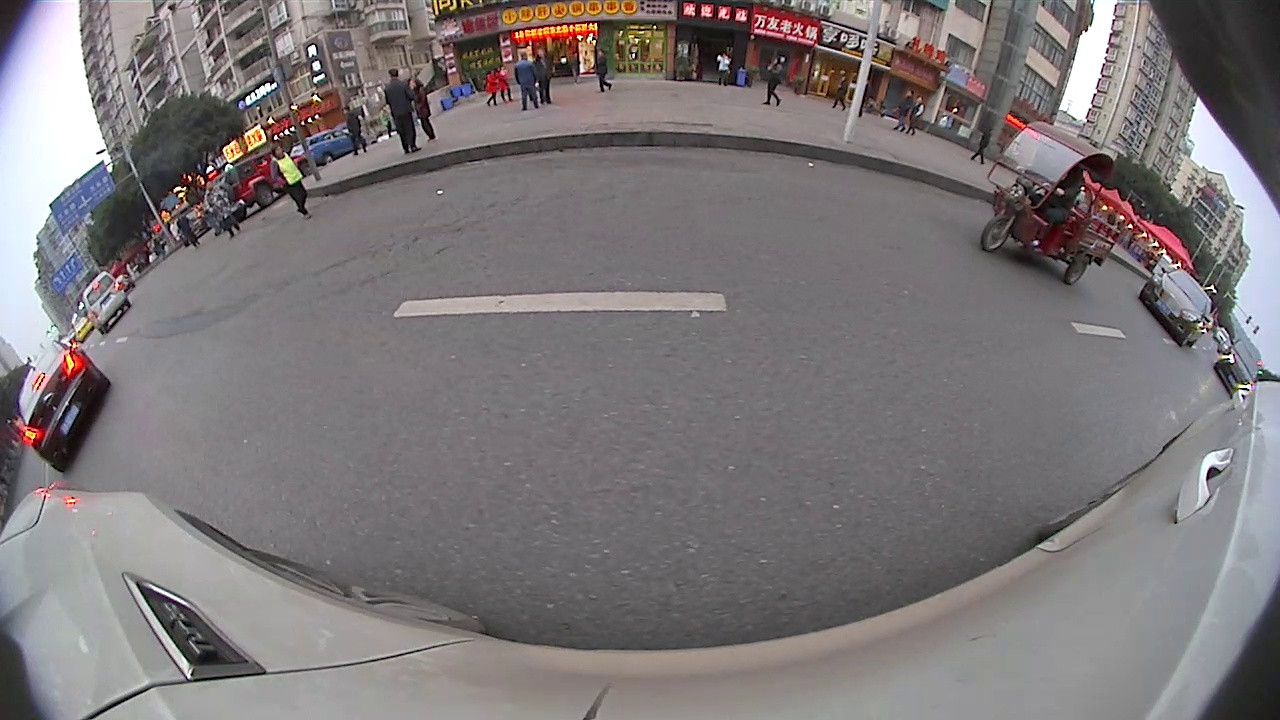car: (15, 340, 111, 474), (1137, 263, 1220, 348), (73, 266, 134, 336), (1212, 334, 1264, 394)
front: (979, 211, 1014, 255)
person: (267, 141, 315, 223), (381, 64, 421, 153), (339, 102, 370, 155)
rear: (1061, 253, 1089, 288)
rider: (980, 120, 1127, 286)
